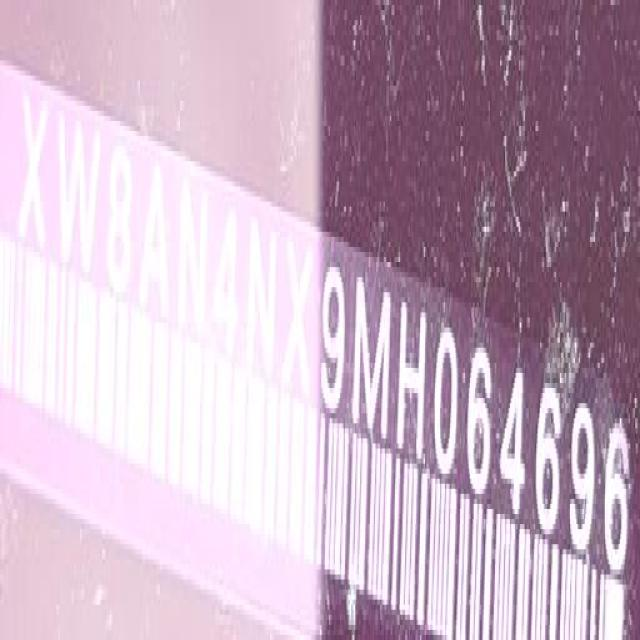0: (432, 317, 460, 483)
4: (502, 353, 528, 522), (214, 202, 240, 360)
6: (605, 413, 633, 582), (534, 384, 563, 540), (464, 340, 491, 505)
8: (106, 137, 135, 299)
9: (569, 396, 596, 562), (320, 261, 346, 421)
A: (139, 160, 173, 322)
H: (398, 294, 428, 464)
M: (353, 271, 394, 450)
N: (248, 222, 280, 384), (179, 176, 210, 338)
W: (61, 113, 102, 282)
X: (284, 226, 316, 404), (18, 85, 49, 256)
